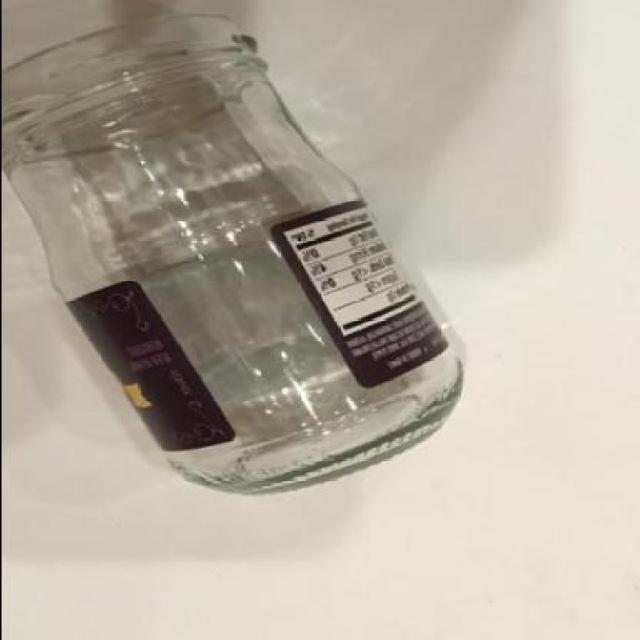glass: (2, 19, 463, 498)
